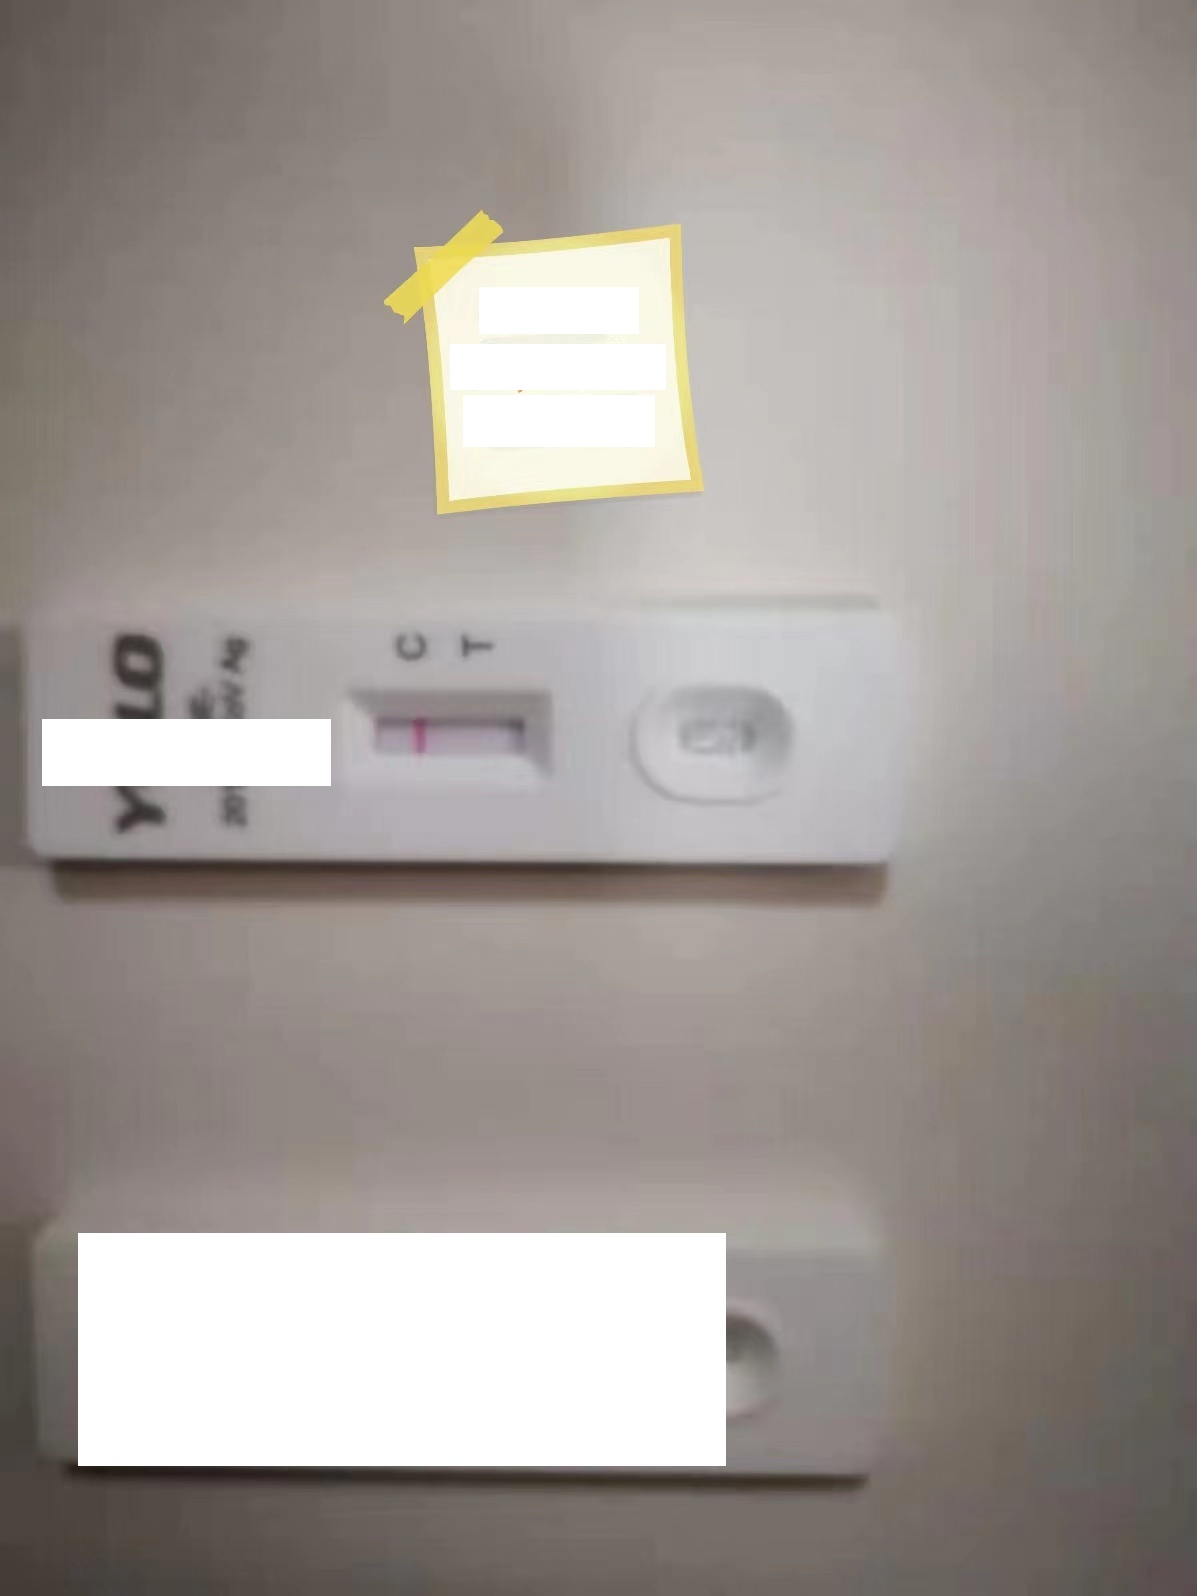negative: (345, 682, 560, 790)
